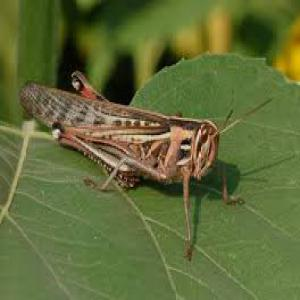locust: (26, 30, 237, 245)
